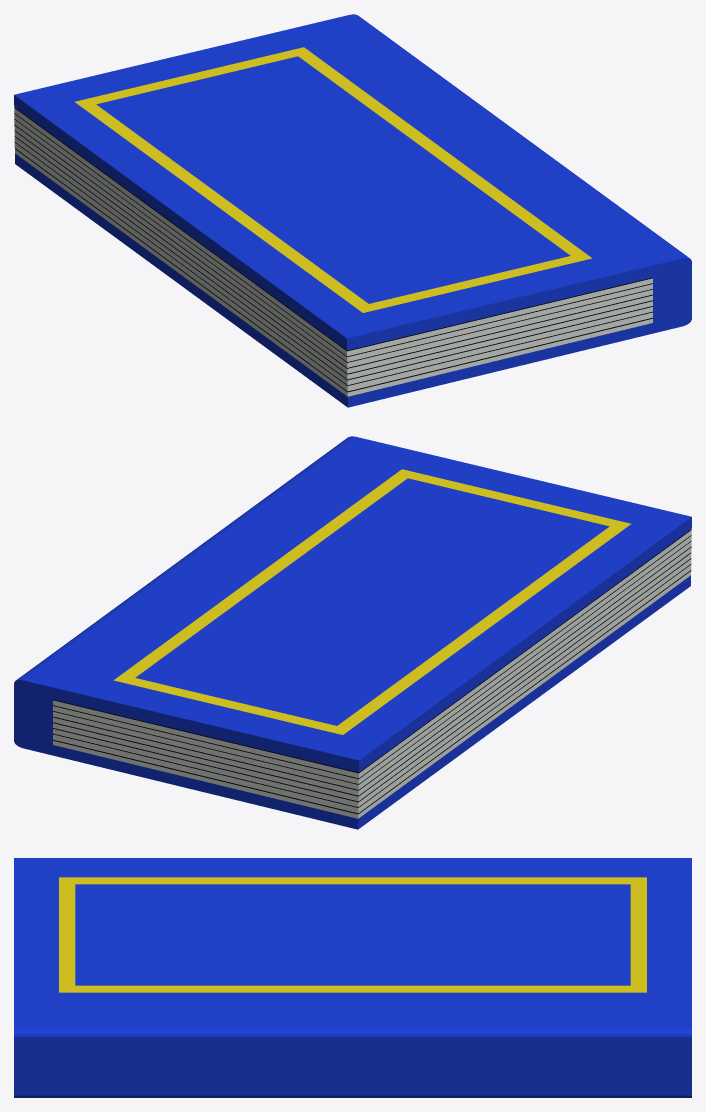
Rendered from BlueBook.fbx.
3 renders of one model, top to bottom at view 1: azimuth 30°, elevation 25°; view 2: azimuth 150°, elevation 25°; view 3: azimuth 270°, elevation 25°, orthographic.
Parts seen in each view (by area): view 1: Blue; view 2: Blue; view 3: Blue.
Boxes of the visible parts, box(x1,y1,x2,y2) form: Blue: box(14, 14, 691, 407); Blue: box(14, 436, 691, 829); Blue: box(14, 858, 691, 1097).
Bounding box in the file's own units: 120 × 23.18 × 200.
